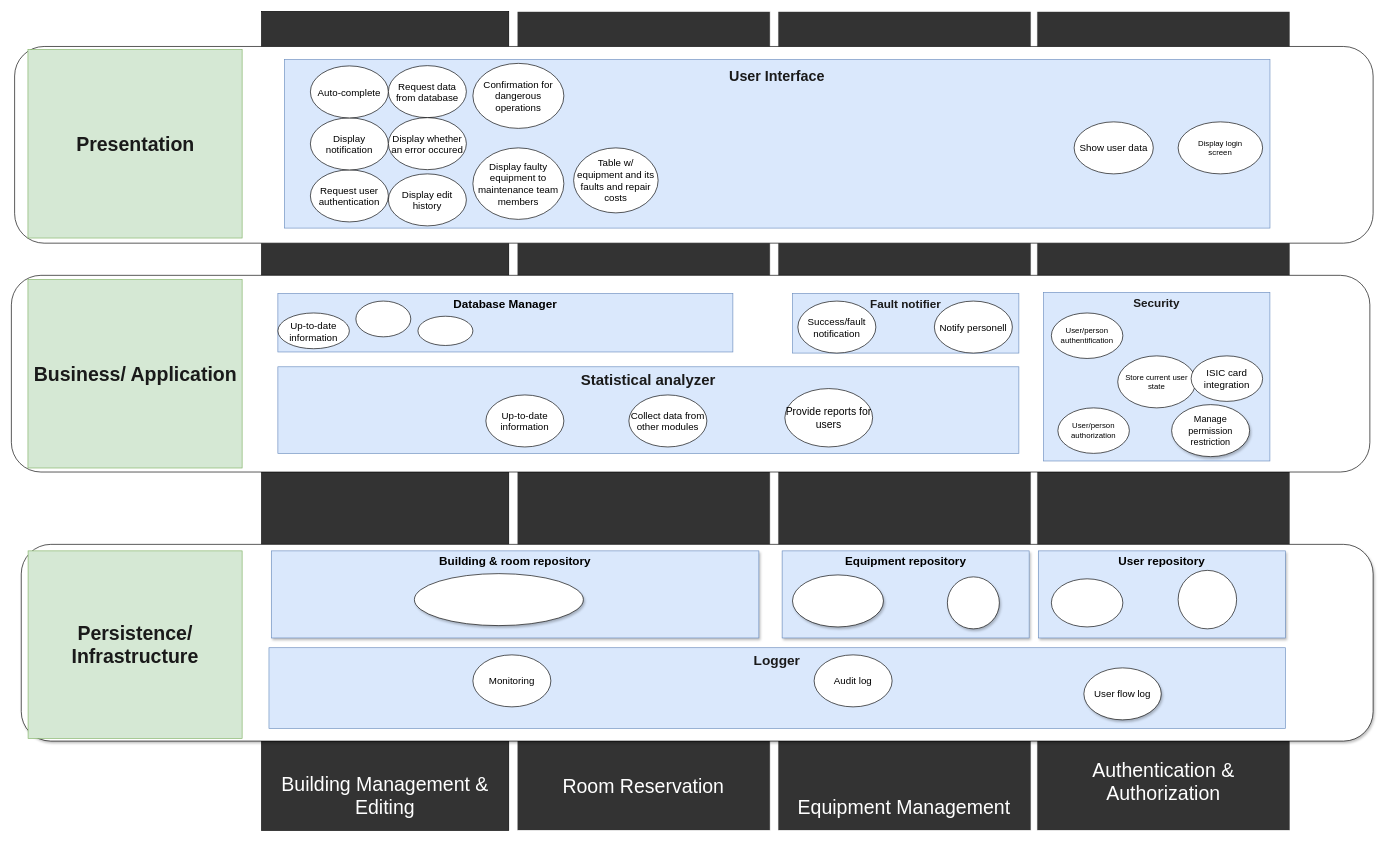
The diagram is 1388 pixels wide and 842 high, and some of its shapes have lost their labels. The shapes that lost their labels are listed below. From the top down, each one's centre as x and y in pixels, then its label:
point 383,318: Sanitization
point 445,330: Validation
point 499,600: Fetch/Save building/room data
point 838,601: Fetch available resources
point 973,603: Fetch Supplier data
point 1087,602: Fetch user permissions
point 1207,599: Fetch user credentials
